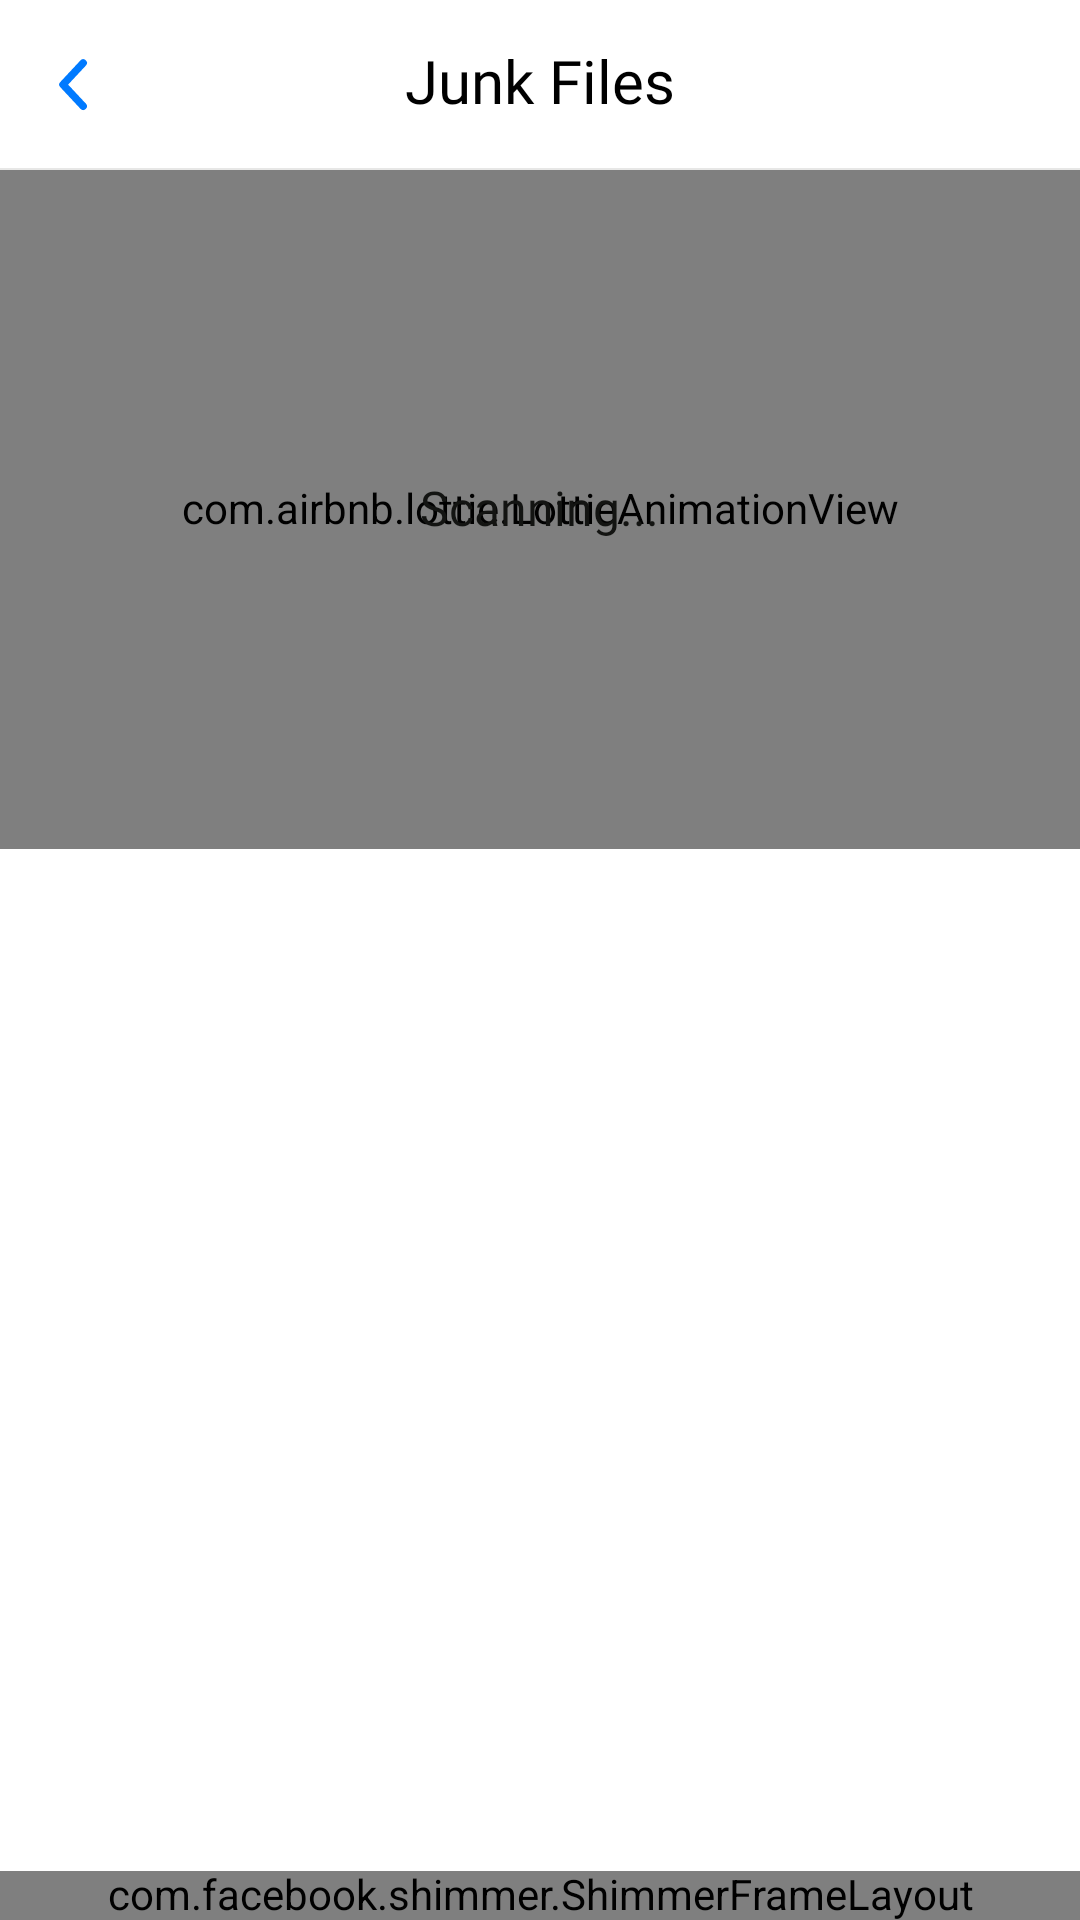

Named icons in this screenshot (1080×1920) and their bounding boxes, (x1, y1, x2, y2):
back: (59, 59, 87, 110)
